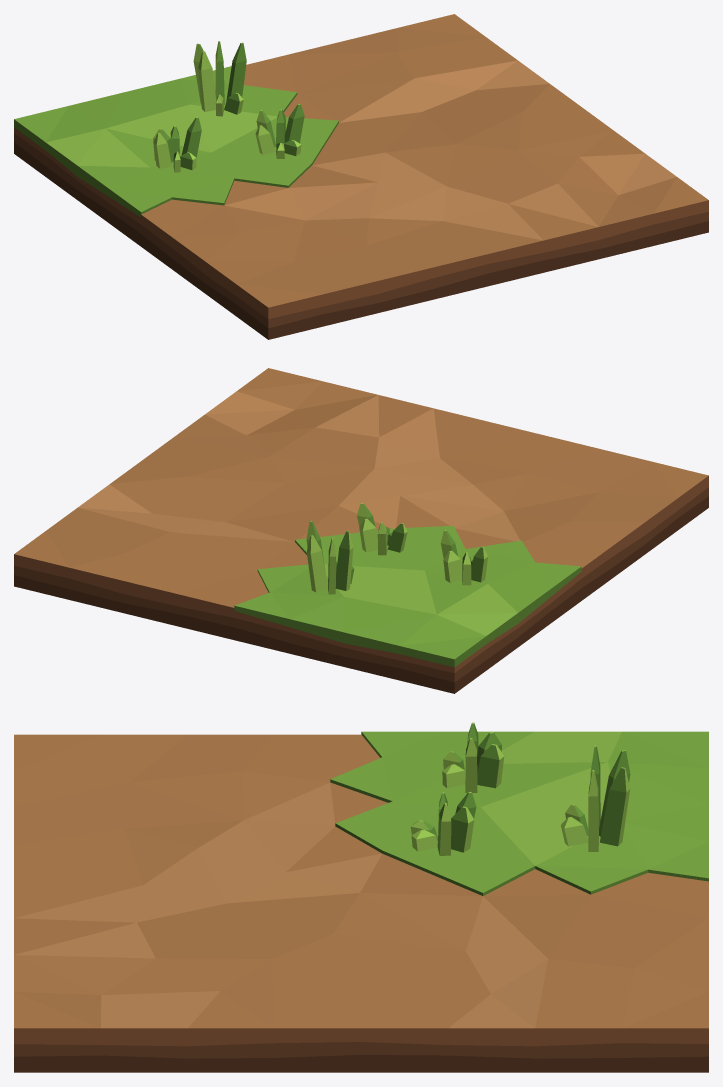
The model's file is FMS_Ground_Corner_Out.fbx.
The picture shows the model from 3 angles, top to bottom: view 1: azimuth 30°, elevation 25°; view 2: azimuth 150°, elevation 25°; view 3: azimuth 270°, elevation 25°; orthographic projection. The views are drawn at different scales.
Visible parts, largest first — view 1: FMS_Ground_Corner_Out; view 2: FMS_Ground_Corner_Out; view 3: FMS_Ground_Corner_Out.
Boxes of the visible parts, x1,y1,x2,y2 form: FMS_Ground_Corner_Out: [14, 14, 708, 339]; FMS_Ground_Corner_Out: [14, 368, 708, 693]; FMS_Ground_Corner_Out: [14, 722, 708, 1072].
Size of the model in its own units: 4 by 0.836 by 4.
